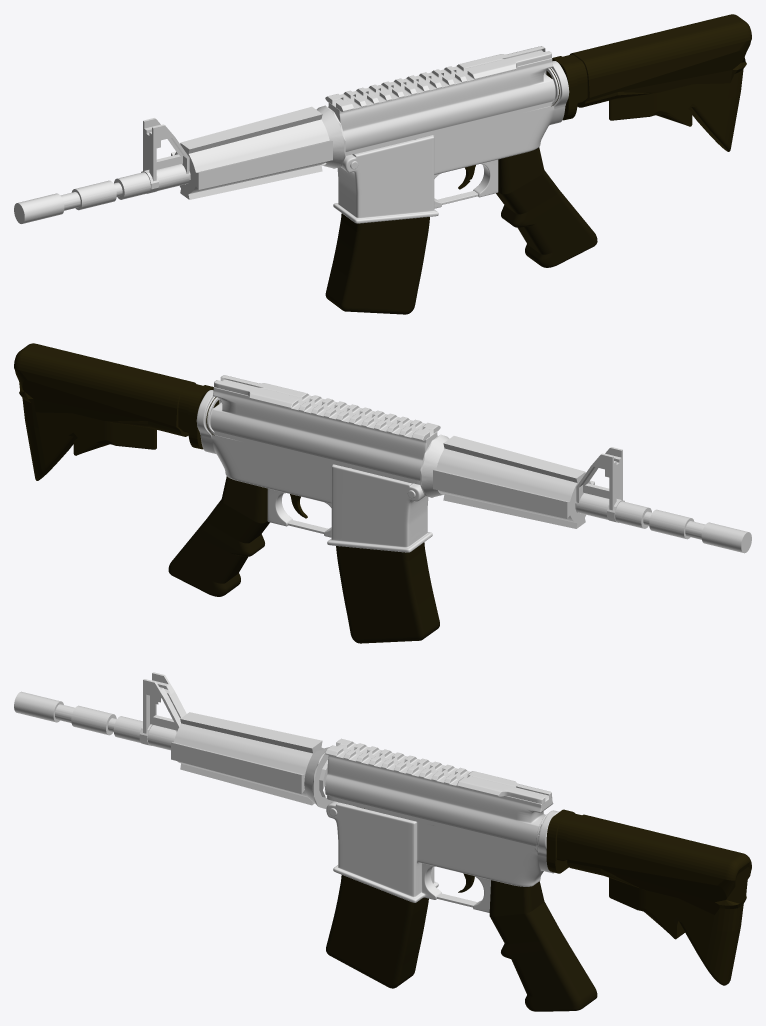
3 views of the same model, one above another, from view 1: azimuth 30°, elevation 25°; view 2: azimuth 150°, elevation 25°; view 3: azimuth 330°, elevation 25° (orthographic).
Visible parts, largest first — view 1: Body, ShoulderRest, barrel, Mag, Handle, Sight; view 2: Body, ShoulderRest, barrel, Mag, Handle, Sight; view 3: Body, ShoulderRest, barrel, Handle, Mag, Sight.
Part boxes in pixels (left/top/right/bottom): Body: left=328, top=50, right=569, bottom=223; ShoulderRest: left=546, top=14, right=751, bottom=151; barrel: left=14, top=105, right=345, bottom=223; Mag: left=325, top=213, right=429, bottom=314; Handle: left=496, top=147, right=597, bottom=267; Sight: left=325, top=46, right=551, bottom=111; Body: left=196, top=379, right=437, bottom=552; ShoulderRest: left=14, top=343, right=219, bottom=480; barrel: left=420, top=434, right=751, bottom=553; Mag: left=336, top=542, right=439, bottom=643; Handle: left=168, top=476, right=269, bottom=596; Sight: left=214, top=375, right=440, bottom=440; Body: left=325, top=744, right=559, bottom=912; ShoulderRest: left=546, top=809, right=751, bottom=985; barrel: left=14, top=672, right=332, bottom=808; Handle: left=489, top=880, right=597, bottom=1011; Mag: left=326, top=808, right=428, bottom=988; Sight: left=325, top=738, right=551, bottom=804.
Bounding box in the file's own units: 572 × 185 × 43.2.
